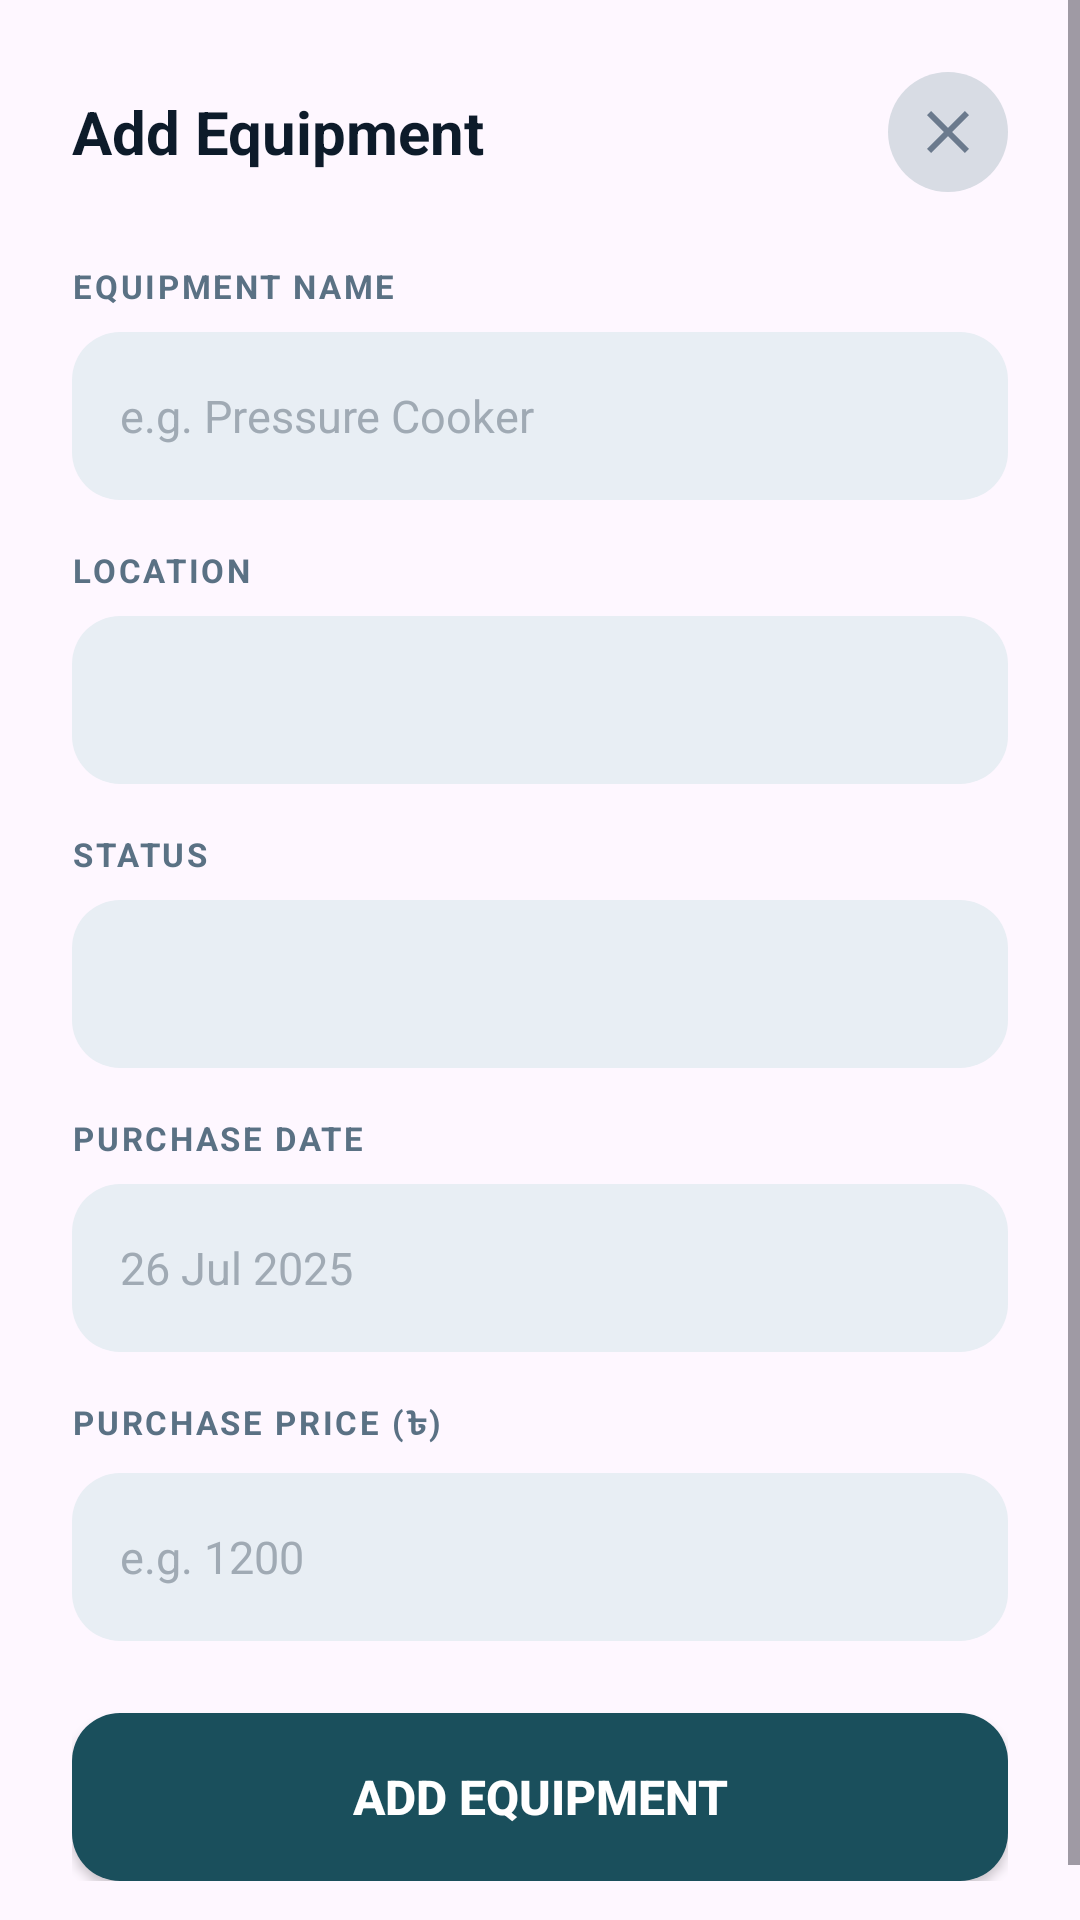

Where to tap for icons on this 1080 × 1920 app screen, as [x,y]:
Close: [948,132]
